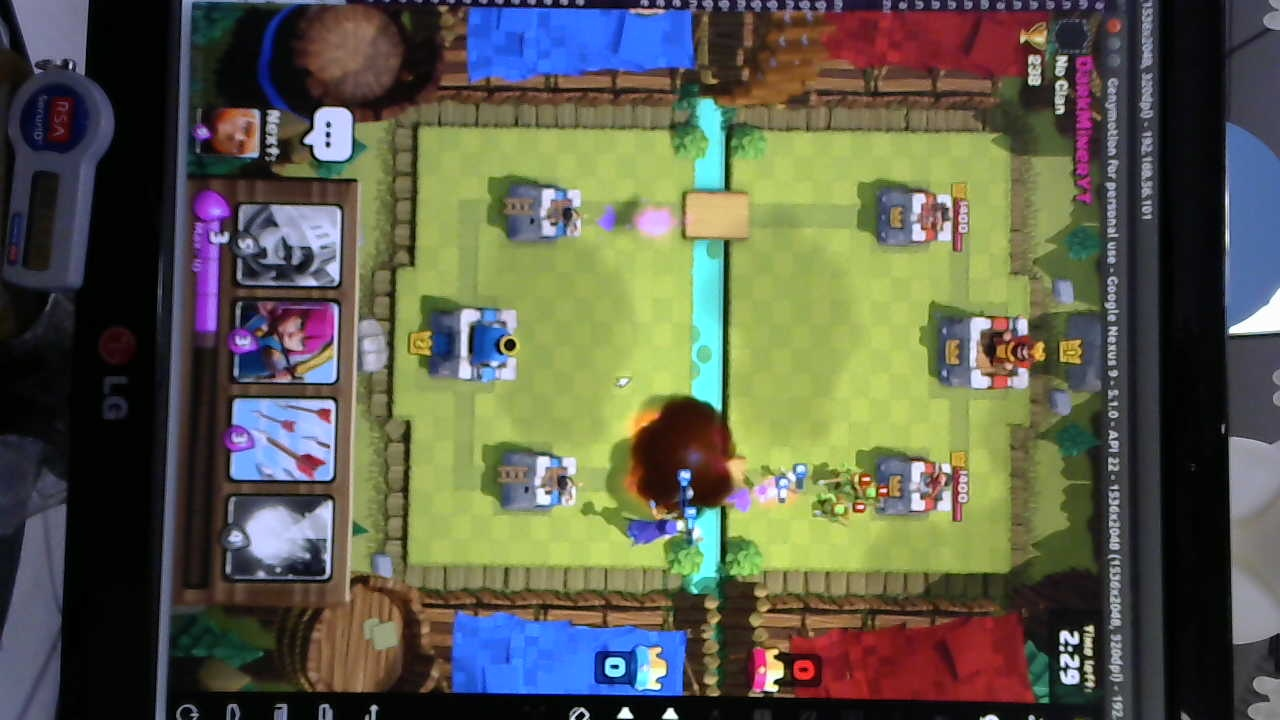arena: (492, 447, 580, 513), (505, 181, 583, 244)
earena: (873, 453, 952, 514), (875, 188, 954, 248)
eking: (937, 316, 1036, 393)
king: (426, 305, 523, 386)
skeleton: (748, 464, 808, 508)
speargoblins: (812, 464, 880, 523)
witch: (623, 511, 689, 547)
